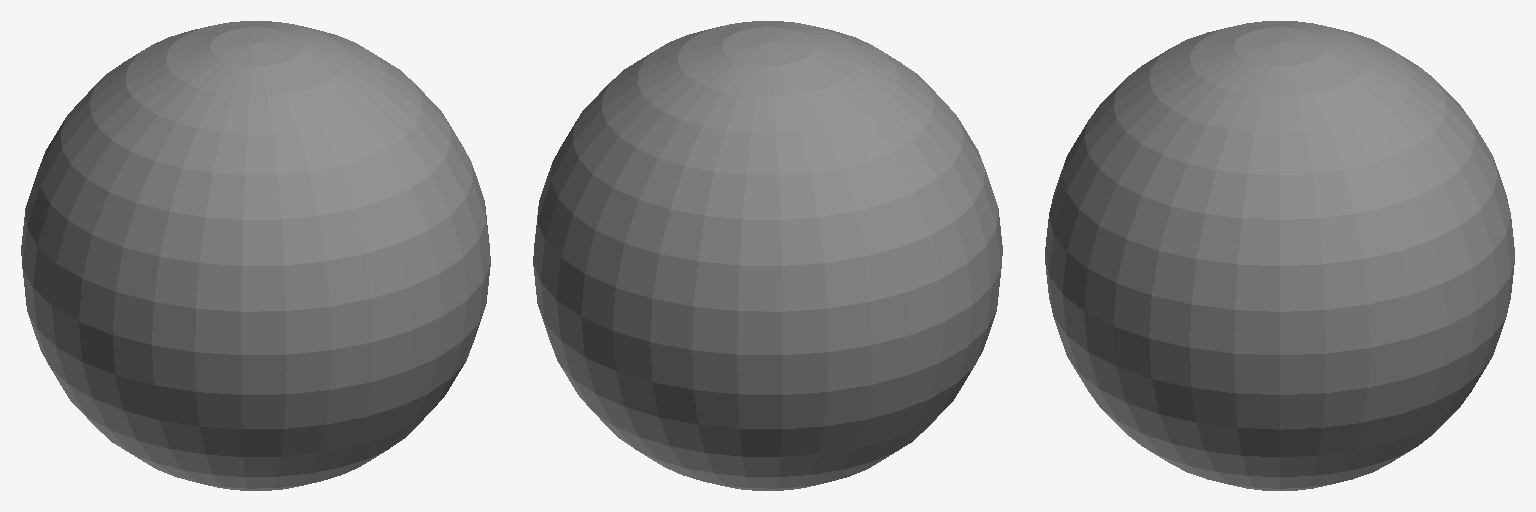
File: TierraOBJ.obj
3 renders of one model, left to right at view 1: azimuth 30°, elevation 25°; view 2: azimuth 150°, elevation 25°; view 3: azimuth 270°, elevation 25°, orthographic.
Parts seen in each view (by area): view 1: Sphere003; view 2: Sphere003; view 3: Sphere003.
Part boxes in pixels (bbox=[...]): Sphere003: bbox=[21, 21, 490, 490]; Sphere003: bbox=[533, 21, 1002, 490]; Sphere003: bbox=[1045, 21, 1514, 490].
Bounding box in the file's own units: 8.86 × 8.86 × 8.86.